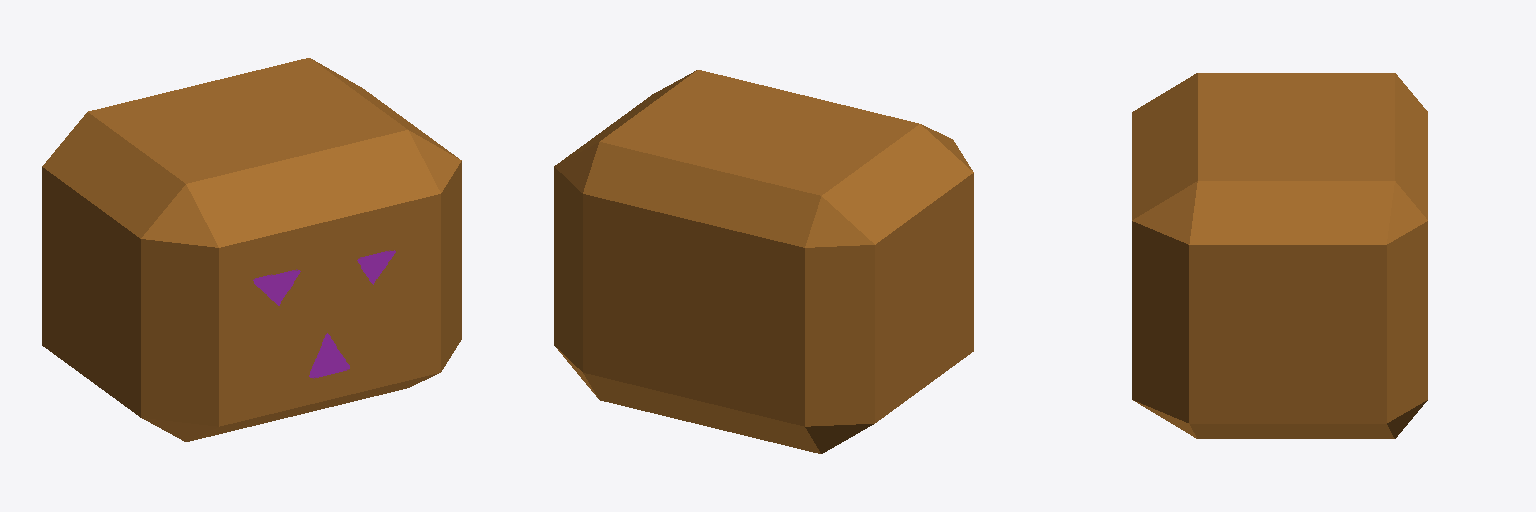
The picture shows the model from 3 angles: view 1: azimuth 30°, elevation 25°; view 2: azimuth 150°, elevation 25°; view 3: azimuth 270°, elevation 25°; orthographic projection.
Parts seen in each view (by area): view 1: 立方体; view 2: 立方体; view 3: 立方体.
Part boxes in pixels (bbox=[...]): 立方体: bbox=[42, 58, 461, 441]; 立方体: bbox=[554, 70, 973, 453]; 立方体: bbox=[1132, 73, 1427, 438].
Bounding box in the file's own units: 2.22 × 1.71 × 1.78.
Materials: 1 (1 with a texture image).